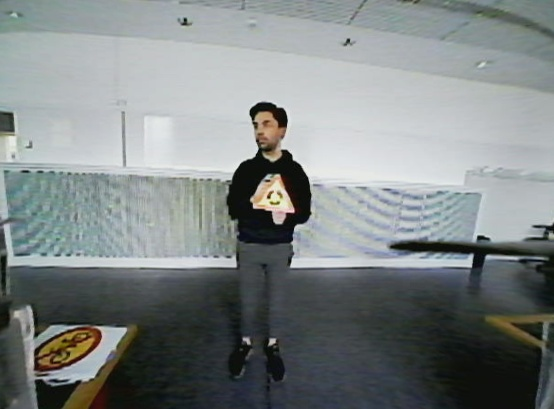roundabout_warning: (253, 171, 297, 216)
